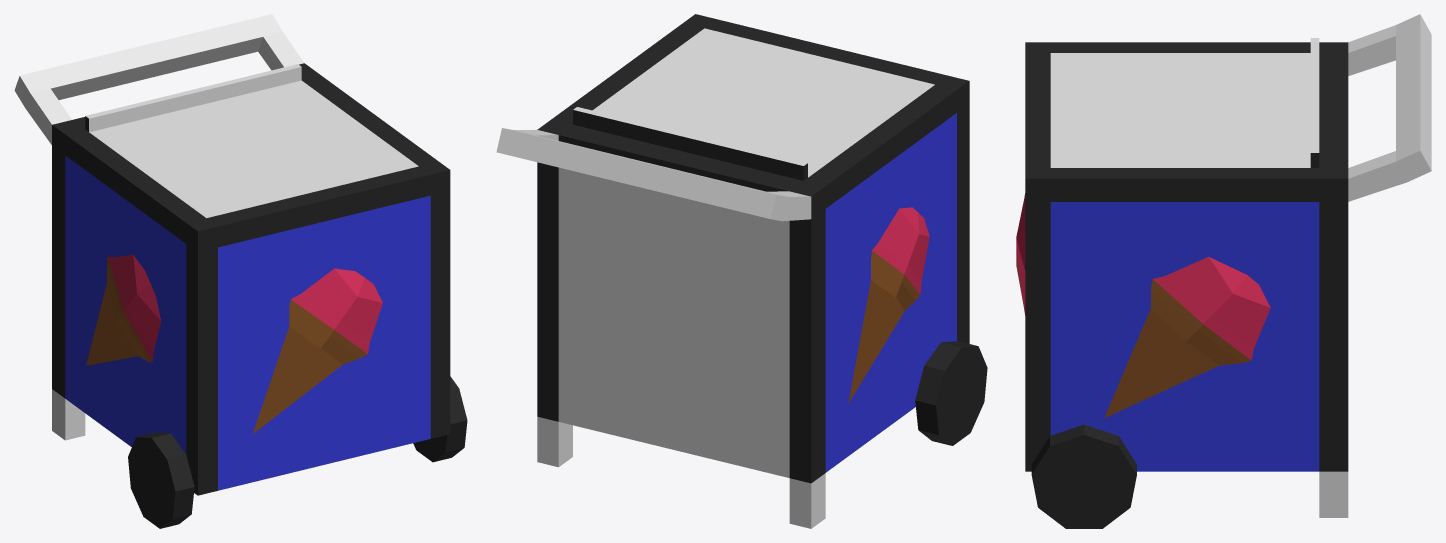
Rendered from IceCreamCart01.fbx.
3 renders of one model, left to right at view 1: azimuth 30°, elevation 25°; view 2: azimuth 150°, elevation 25°; view 3: azimuth 270°, elevation 25°, orthographic. The views are drawn at different scales.
Parts seen in each view (by area): view 1: Cube; view 2: Cube; view 3: Cube.
Boxes of the visible parts, box(x1,y1,x2,y2) form: Cube: box(14, 14, 467, 528); Cube: box(496, 14, 987, 528); Cube: box(1016, 14, 1431, 528).
Size of the model in its own units: 231 by 251 by 257.
